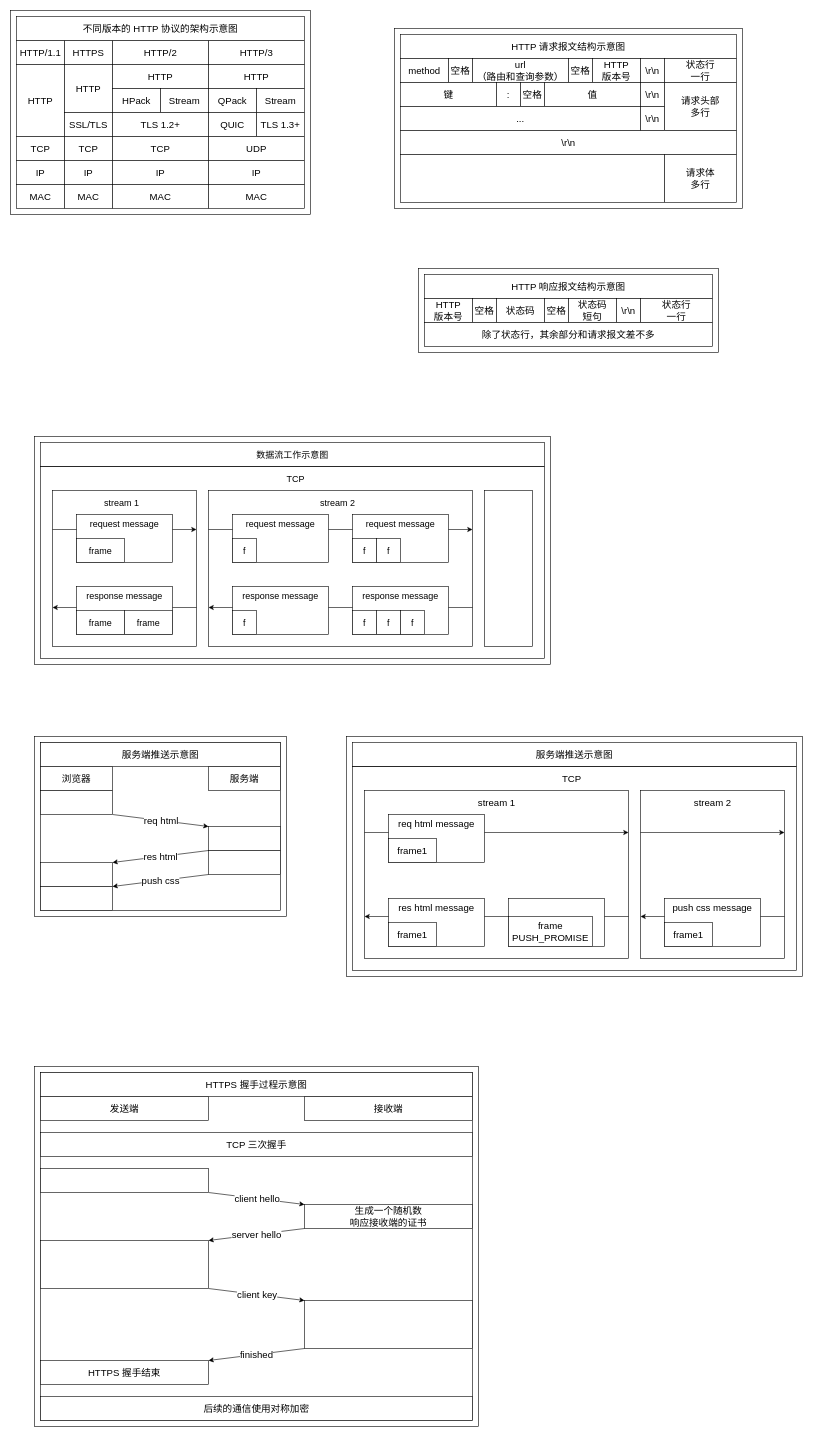
This 813x1437 diagram has some shape labels left out. The shapes that lost their labels are listed below. From the top down, each one's box as (x1, y1, x2, y2) in pixels, then its label:
(400, 154, 664, 202): 各种格式的数据
(484, 490, 532, 646): stream n
(508, 898, 604, 946): push message
(40, 1168, 208, 1192): 生成一个随机数 发起加密通信请求
(40, 1240, 208, 1288): 验证证书 生成一个随机数，用接收端的公钥加密 用三个随机数组合出对称加密秘钥 用之前所有的内容计算一个信息摘要
(304, 1300, 472, 1348): 取出加密后的随机数，用私钥解密 用三个随机数组合出对称加密秘钥 用之前所有的内容计算一个信息摘要 比对发送端的摘要和自己的摘要
